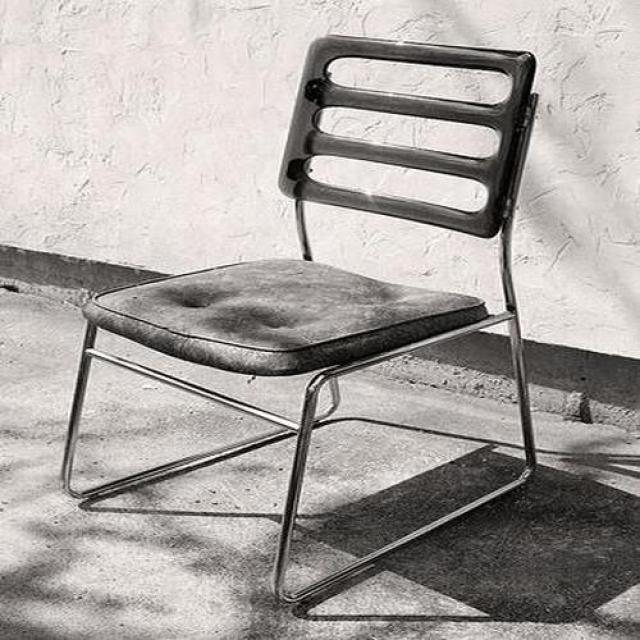chair: (60, 36, 539, 618)
